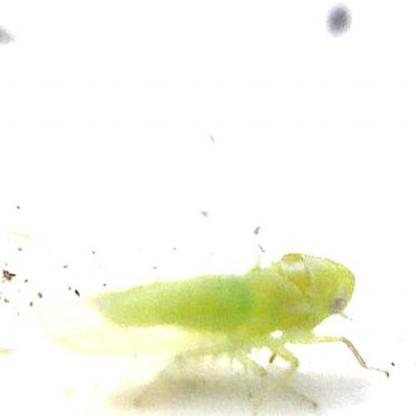green-leafhopper: (91, 258, 361, 378)
